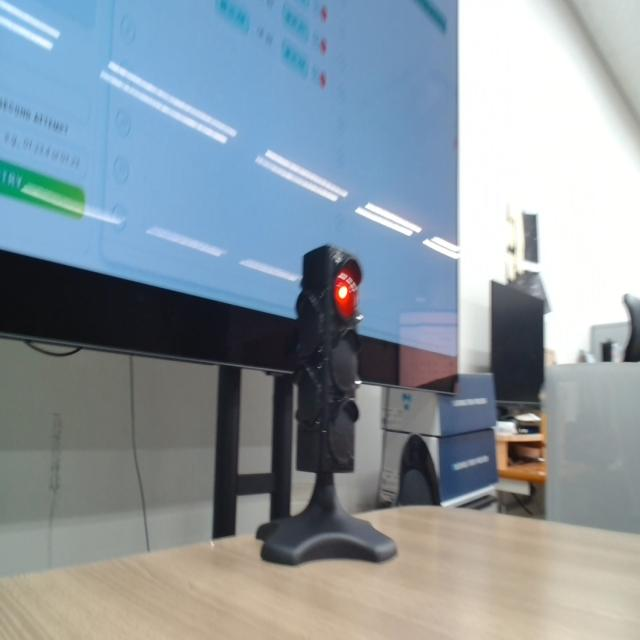red_light: (335, 268, 359, 319), (338, 285, 348, 299)
